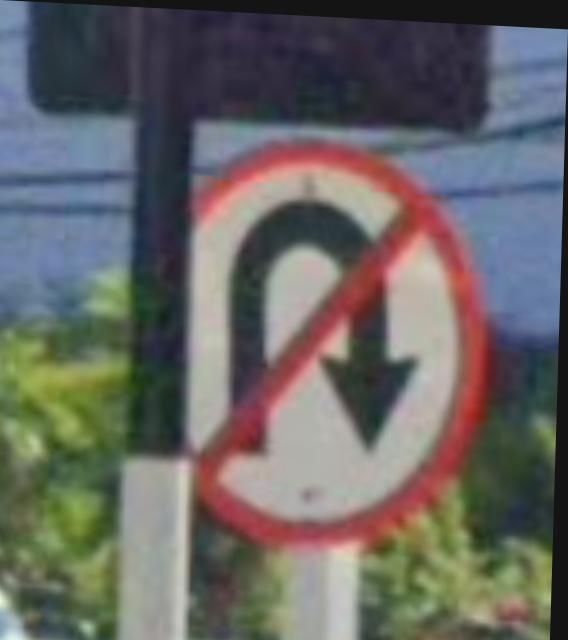not_u_turn_right: (180, 127, 497, 551)
